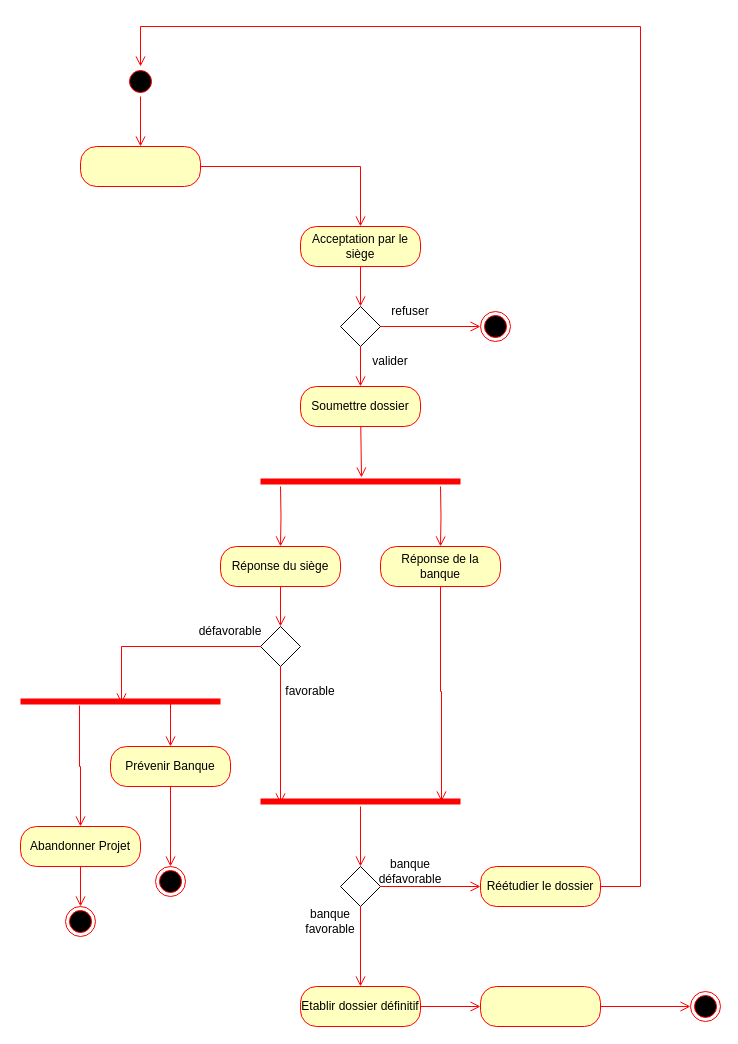
This 738x1044 diagram has some shape labels left out. Here are the shapes that lost their labels. From the top down, the box of each, then its label:
(80, 146, 200, 186): Demander l'accord
(480, 986, 600, 1026): Lancer Projet
